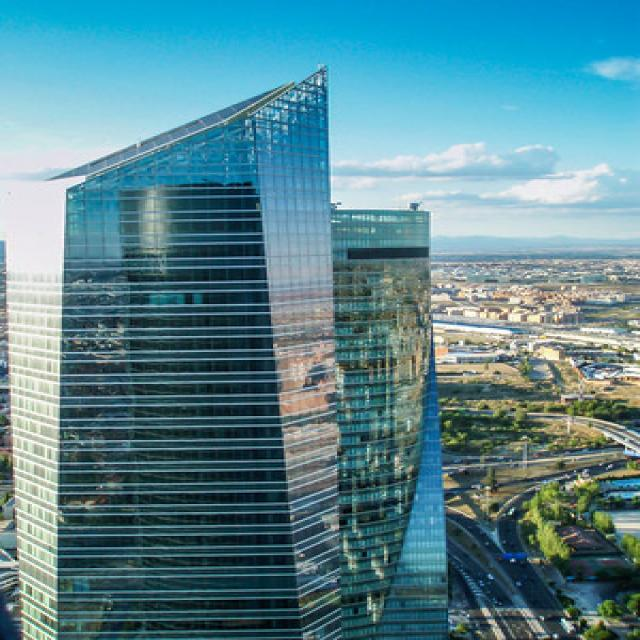building: (6, 62, 348, 640)
